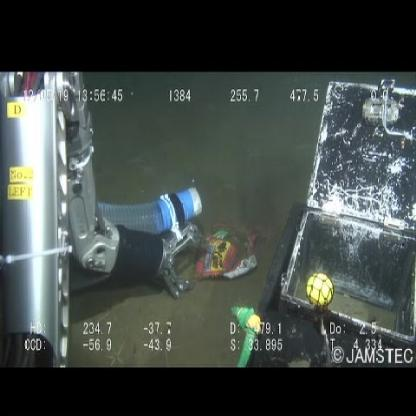Rov: (1, 74, 202, 365), (262, 78, 416, 367)
Rác: (194, 215, 261, 284)
